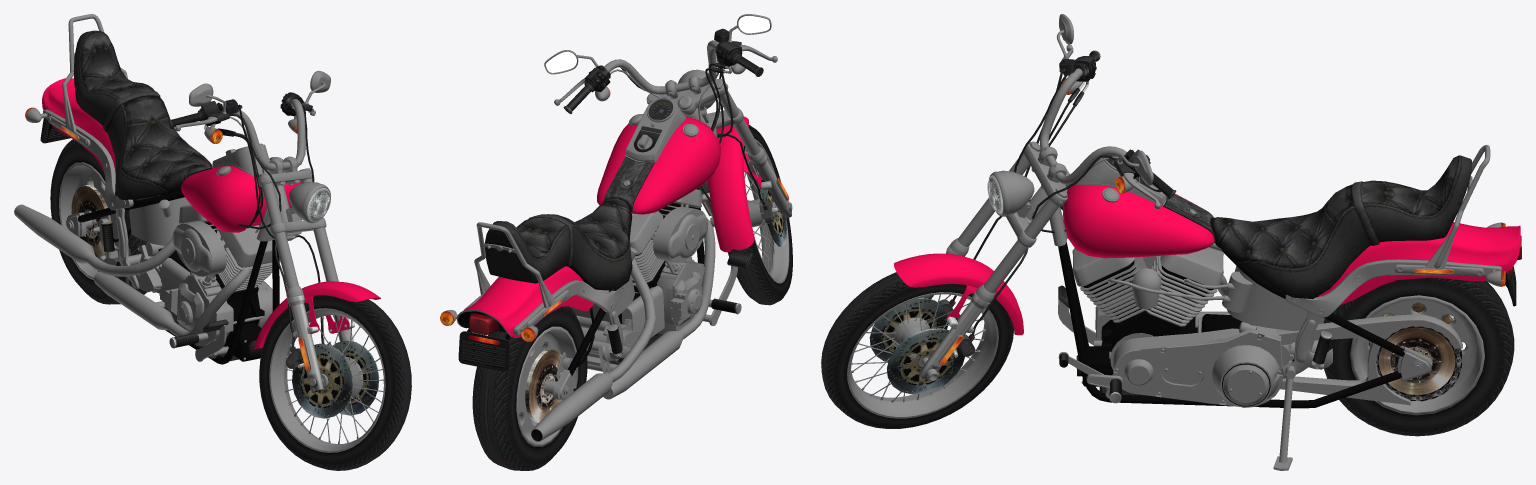
File: moto.glb
The picture shows the model from 3 angles, left to right: view 1: azimuth 30°, elevation 25°; view 2: azimuth 150°, elevation 25°; view 3: azimuth 270°, elevation 25°; orthographic projection. The views are drawn at different scales.
Parts seen in each view (by area): view 1: Object_9, Object_12, Object_17, Object_6, Object_7, Object_3, Object_14, Object_15, Object_16, Object_5, Object_10, Object_11; view 2: Object_9, Object_6, Object_17, Object_12, Object_14, Object_15, Object_7, Object_16, Object_2, Object_3, Object_11, Object_4 (+3 smaller); view 3: Object_9, Object_17, Object_6, Object_12, Object_7, Object_3, Object_15, Object_14, Object_5, Object_4, Object_16.
Boxes of the visible parts, x1,y1,x2,y2 form: Object_9: (14,14,385,452); Object_12: (73,30,212,199); Object_17: (50,139,411,470); Object_6: (42,78,380,349); Object_7: (71,185,379,418); Object_3: (47,123,279,364); Object_14: (40,92,332,368); Object_15: (102,102,314,347); Object_16: (287,295,354,392); Object_5: (113,199,264,326); Object_10: (307,187,330,221); Object_11: (25,107,309,370); Object_9: (445,14,792,446); Object_6: (464,114,762,337); Object_17: (472,125,792,470); Object_12: (484,198,632,290); Object_14: (458,28,777,371); Object_15: (563,41,763,353); Object_7: (525,189,786,422); Object_16: (656,109,791,219); Object_2: (545,15,769,72); Object_3: (467,187,704,391); Object_11: (440,68,789,345); Object_4: (458,203,697,441); Object_9: (847,14,1520,470); Object_17: (821,272,1514,436); Object_6: (894,184,1520,335); Object_12: (1211,155,1471,298); Object_7: (869,297,1455,394); Object_3: (1058,242,1511,408); Object_15: (1014,50,1461,401); Object_14: (919,56,1516,403); Object_5: (1101,296,1317,352); Object_4: (1083,260,1270,406); Object_16: (918,162,1113,380).
Size of what is drawn, in the model's own units: 0.9382 by 1.59 by 2.66.
Materials: 16 (10 with a texture image).
